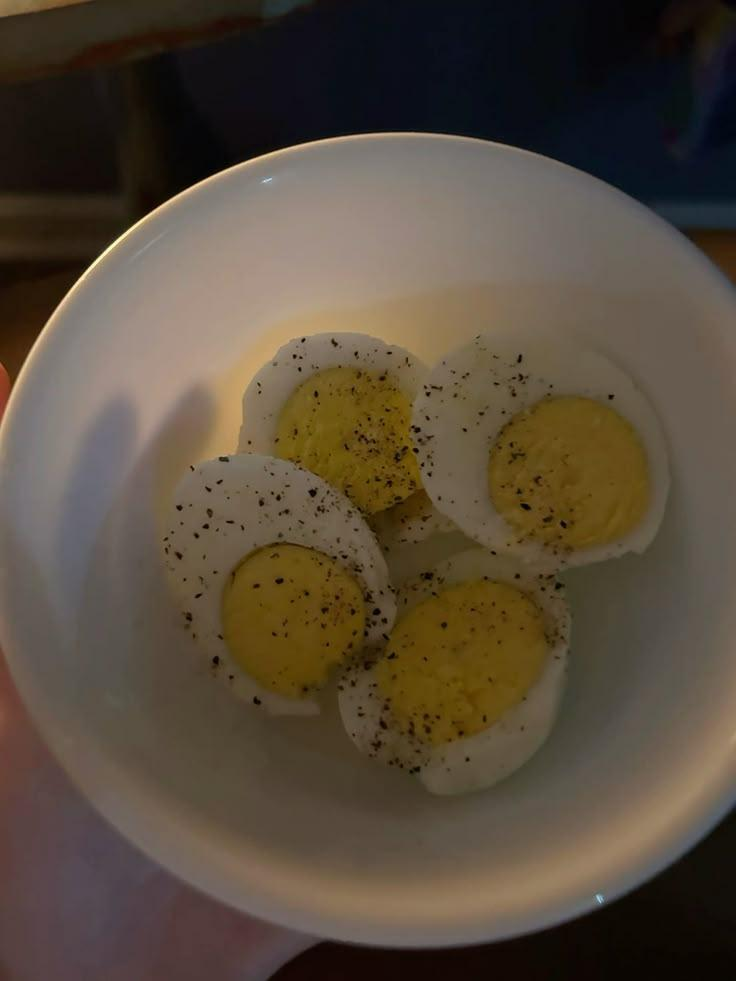eggs: (162, 311, 674, 775)
